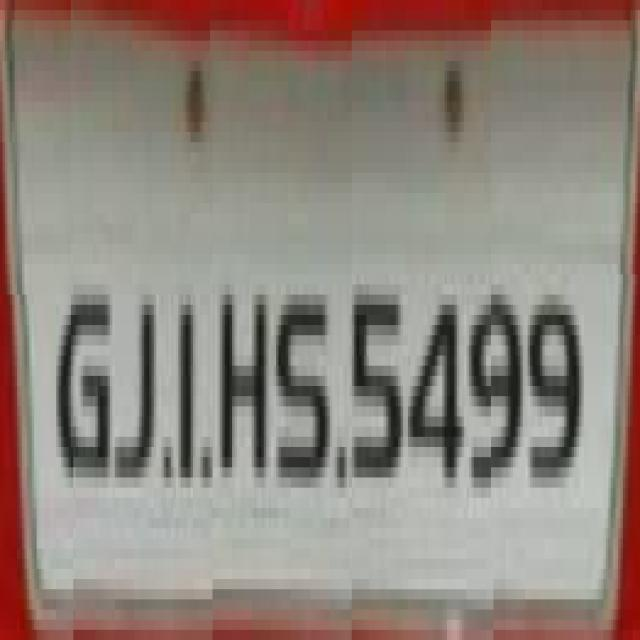license_plate: (5, 30, 611, 640)
